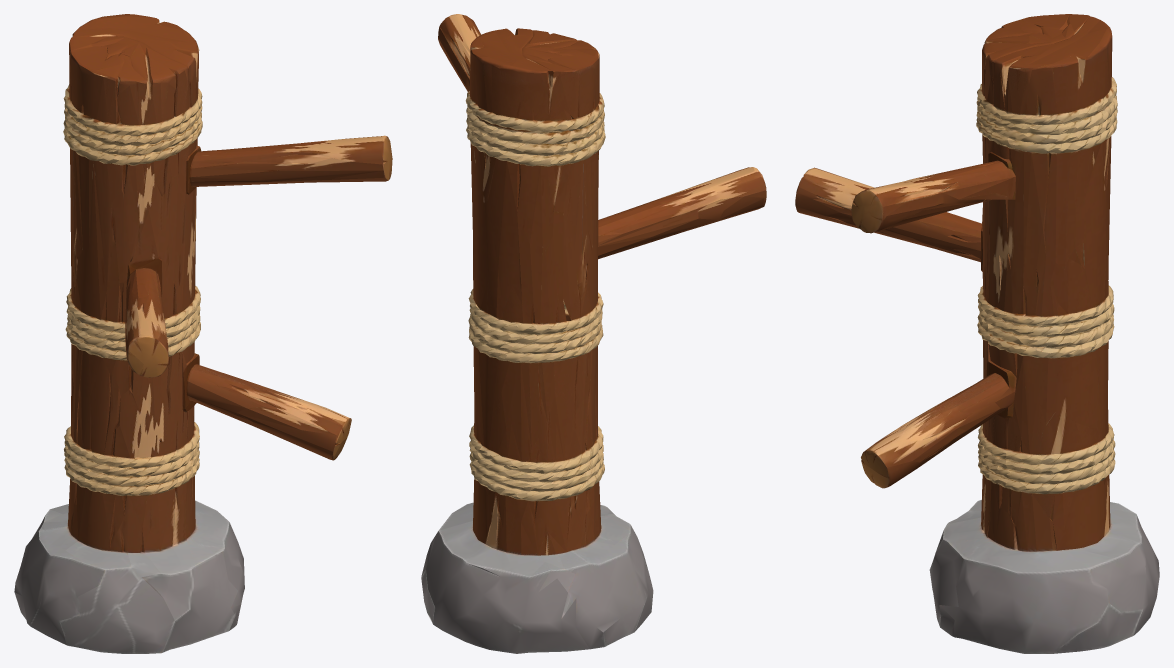
File: training-post.glb
The picture shows the model from 3 angles, left to right: view 1: azimuth 30°, elevation 25°; view 2: azimuth 150°, elevation 25°; view 3: azimuth 270°, elevation 25°; orthographic projection.
Size of the model in its own units: 1.04 by 1.9 by 1.09.
1 material, 1 textured.
